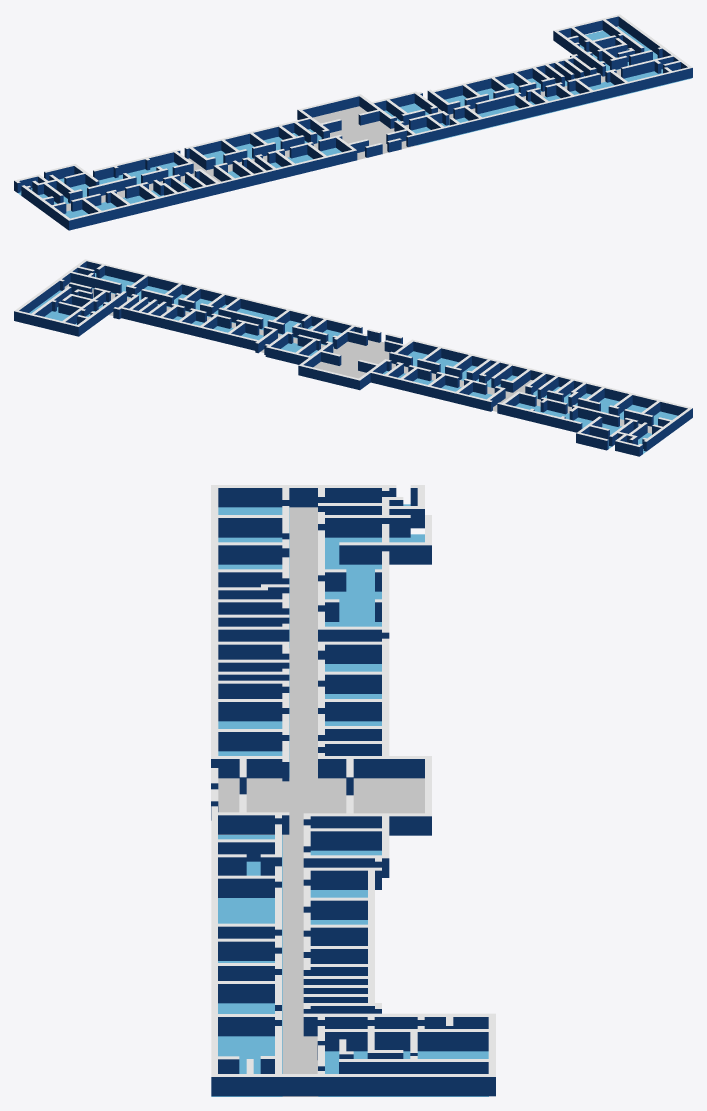
3 views of the same model, one above another, from view 1: azimuth 30°, elevation 25°; view 2: azimuth 150°, elevation 25°; view 3: azimuth 270°, elevation 25° (orthographic). The views are drawn at different scales.
Visible parts, largest first — view 1: Plane_Plane.002, Plane.001_Plane; view 2: Plane_Plane.002, Plane.001_Plane; view 3: Plane_Plane.002, Plane.001_Plane.
Boxes of the visible parts, <box> form: Plane_Plane.002: <box>14,14,692,230</box>; Plane.001_Plane: <box>18,27,691,218</box>; Plane_Plane.002: <box>14,259,692,456</box>; Plane.001_Plane: <box>29,273,677,453</box>; Plane_Plane.002: <box>211,485,495,1096</box>; Plane.001_Plane: <box>211,504,488,1096</box>.
Size of the model in its own units: 68.93 by 1.11 by 13.99.
